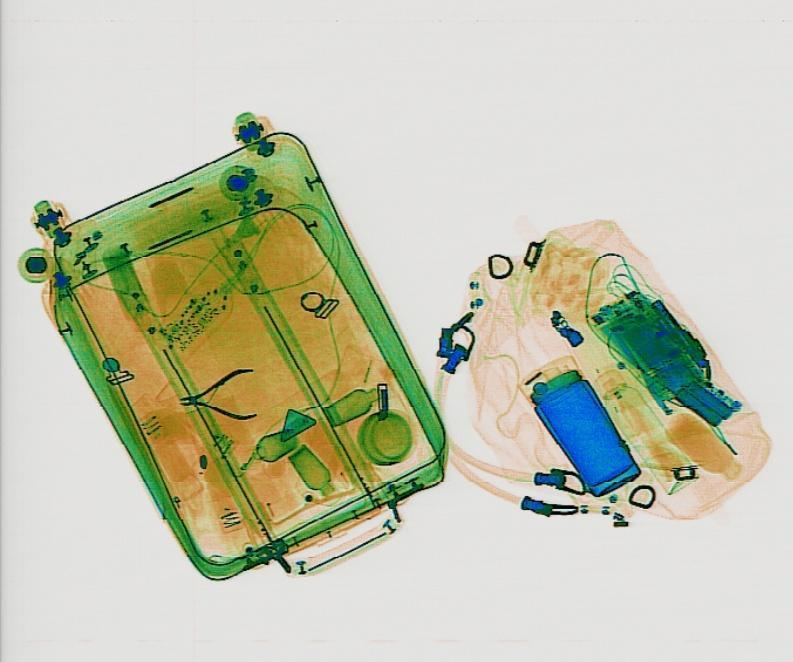Pliers: (178, 366, 257, 419)
